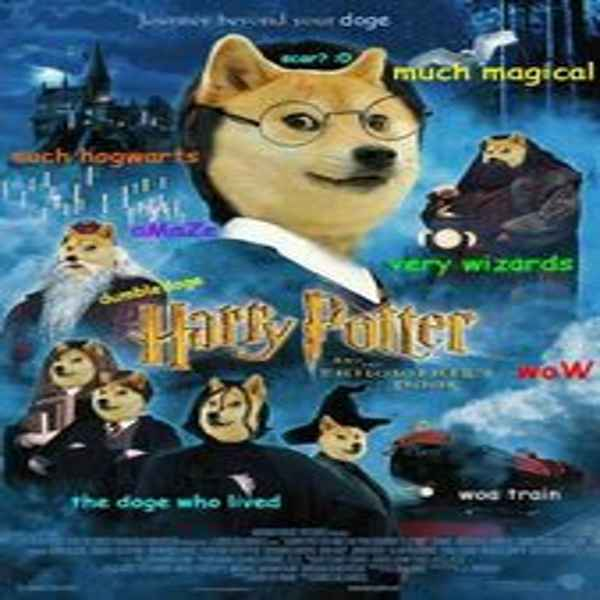doge: (186, 31, 427, 245), (193, 375, 269, 445), (56, 224, 124, 283), (46, 336, 107, 399), (88, 371, 148, 423), (317, 414, 369, 468), (479, 129, 531, 171)
